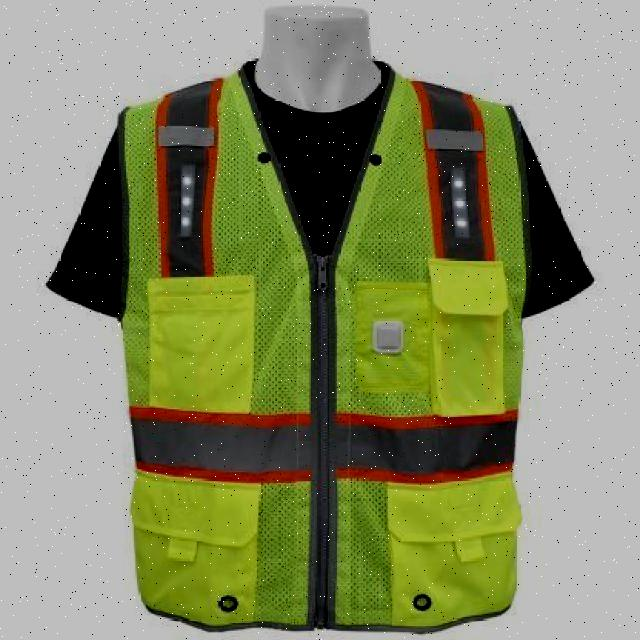Mask: (115, 74, 528, 628)
